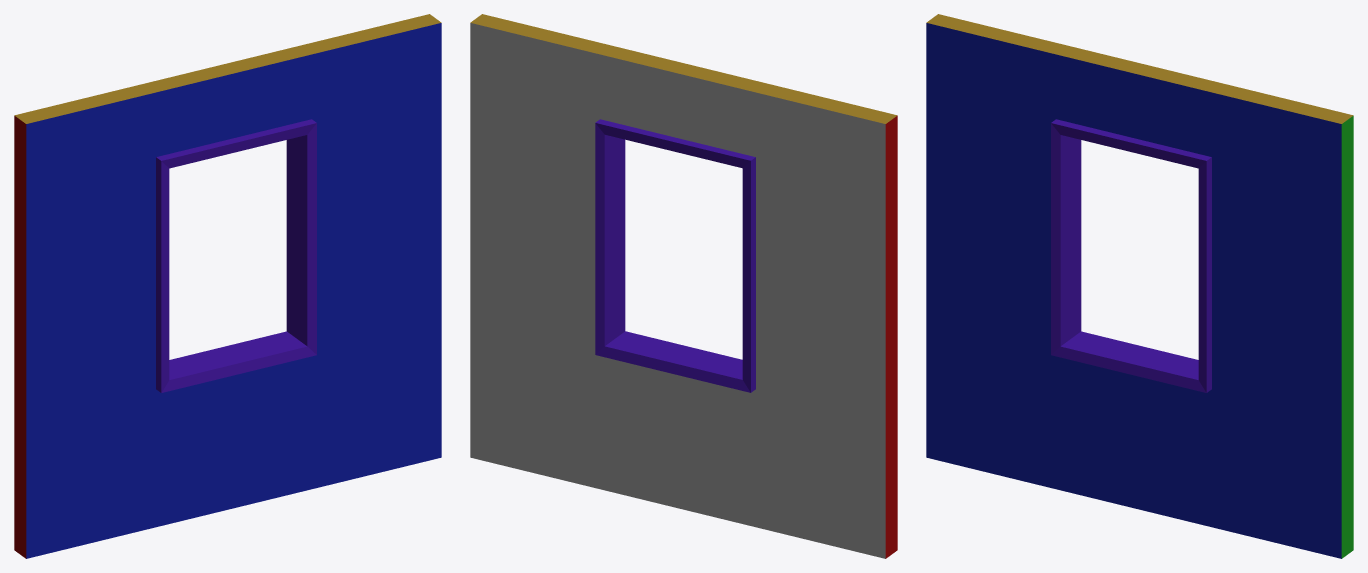
The model's file is Wall_Window_01b.fbx.
The picture shows the model from 3 angles, left to right: view 1: azimuth 30°, elevation 25°; view 2: azimuth 150°, elevation 25°; view 3: azimuth 330°, elevation 25°; orthographic projection.
Parts seen in each view (by area): view 1: Wall_Window_01b; view 2: Wall_Window_01b; view 3: Wall_Window_01b.
Boxes of the visible parts, x1,y1,x2,y2 form: Wall_Window_01b: [14, 14, 441, 558]; Wall_Window_01b: [470, 14, 897, 558]; Wall_Window_01b: [926, 14, 1353, 558].
Size of the model in its own units: 3 by 0.2771 by 3.
